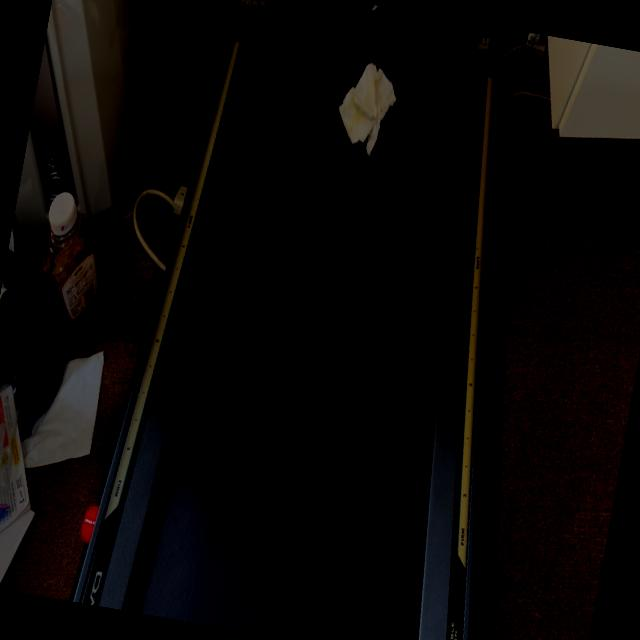Recycle: (326, 45, 418, 174)
